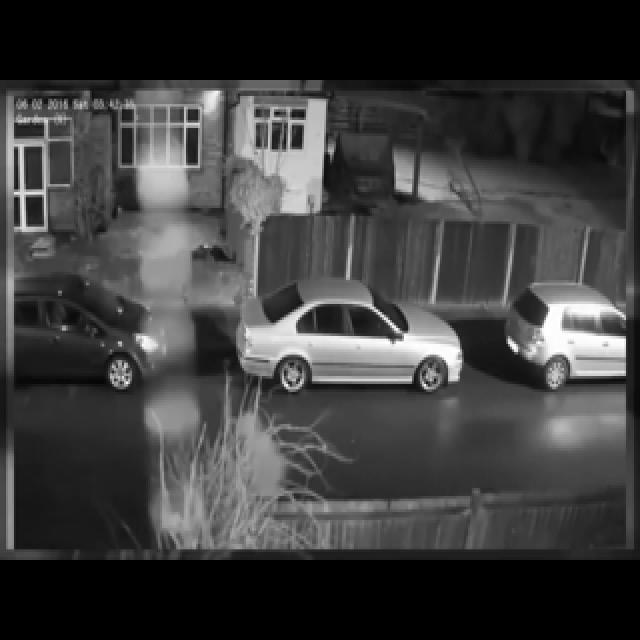vandalism: (89, 192, 531, 528)
